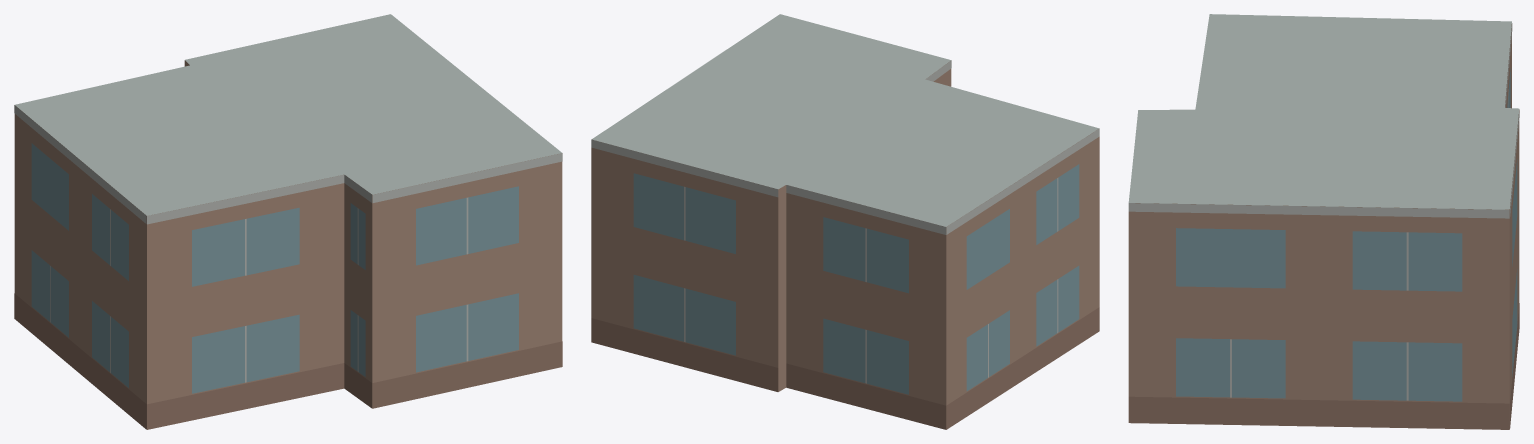
File: survey-upis-32551577.glb
3 renders of one model, left to right at view 1: azimuth 30°, elevation 25°; view 2: azimuth 150°, elevation 25°; view 3: azimuth 270°, elevation 25°, orthographic. The views are drawn at different scales.
Visible parts, largest first — view 1: survey-upis-32551577.tmp; view 2: survey-upis-32551577.tmp; view 3: survey-upis-32551577.tmp.
Part boxes in pixels (left/top/right/bottom): survey-upis-32551577.tmp: left=14, top=14, right=562, bottom=429; survey-upis-32551577.tmp: left=591, top=14, right=1099, bottom=429; survey-upis-32551577.tmp: left=1128, top=14, right=1519, bottom=429.
Size of the model in its own units: 11.65 by 6.1 by 9.83.
